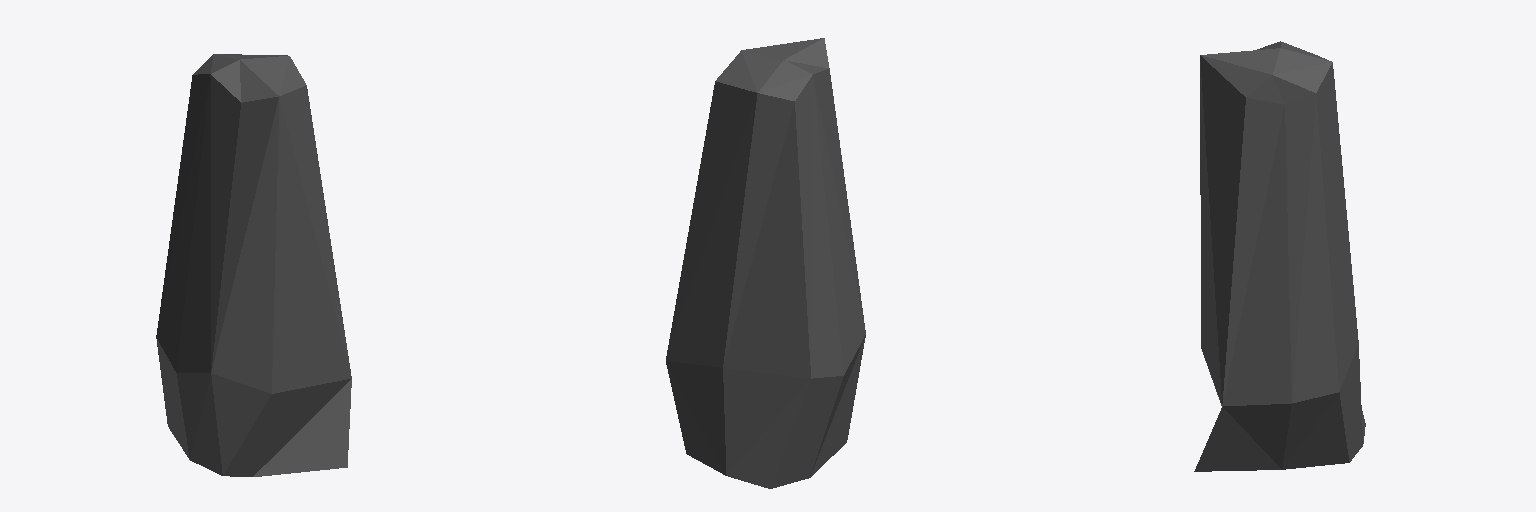
Rendered from rock5.obj.
The picture shows the model from 3 angles: view 1: azimuth 30°, elevation 25°; view 2: azimuth 150°, elevation 25°; view 3: azimuth 270°, elevation 25°; orthographic projection.
Visible parts, largest first — view 1: rock; view 2: rock; view 3: rock.
Part boxes in pixels (bbox=[...]): rock: bbox=[156, 54, 351, 476]; rock: bbox=[666, 38, 865, 488]; rock: bbox=[1194, 41, 1365, 471].
Size of the model in its own units: 25.11 by 61.78 by 24.02.